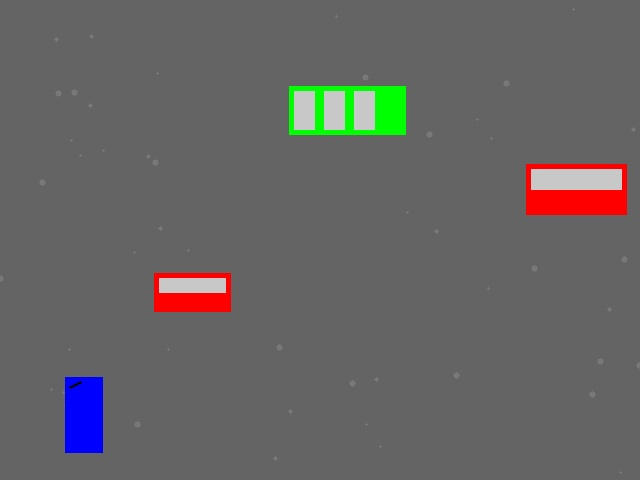bus: (289, 86, 405, 134)
car: (526, 164, 626, 214), (154, 273, 230, 311)
motorcycle: (65, 377, 102, 452)
